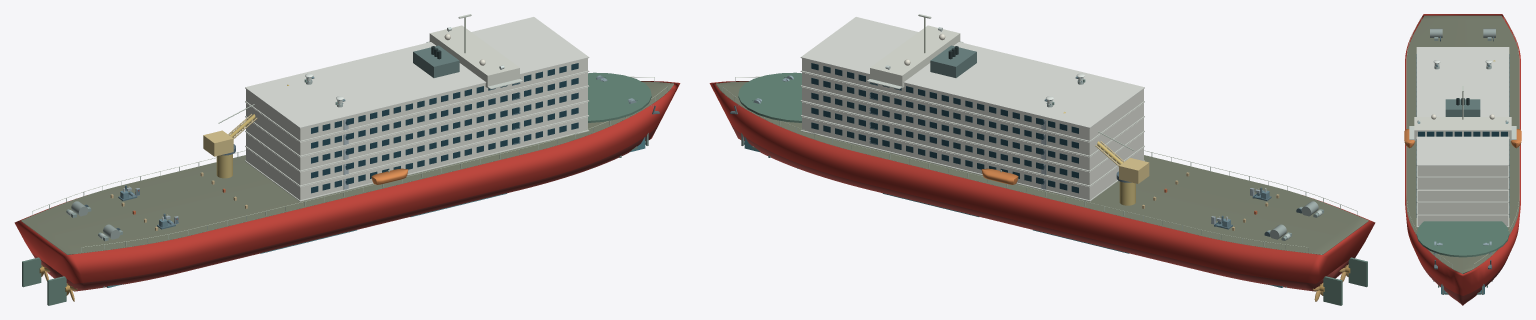
File: sir-david-attenborough.lod1.glb
The picture shows the model from 3 angles, left to right: view 1: azimuth 30°, elevation 25°; view 2: azimuth 150°, elevation 25°; view 3: azimuth 270°, elevation 25°; orthographic projection. The views are drawn at different scales.
Parts seen in each view (by area): view 1: sir-david-attenborough.structure.hull.outer-hull-shell.1, sir-david-attenborough.structure.decks.main-strength-deck.1, sir-david-attenborough.accommodation.superstructure.superstr, sir-david-attenborough.accommodation.superstructure.deck-2-e, sir-david-attenborough.accommodation.superstructure.deck-3-e, sir-david-attenborough.accommodation.superstructure.deck-4-e, sir-david-attenborough.structure.hull.antifouling-underwater, sir-david-attenborough.accommodation.superstructure.deck-1-e, sir-david-attenborough.accommodation.superstructure.deck-5-e, sir-david-attenborough.navigation.bridge.wheelhouse.1, sir-david-attenborough.cargo.aviation.helicopter-landing-dec, sir-david-attenborough.propulsion.exhaust.exhaust-casing.1 (+8 smaller); view 2: sir-david-attenborough.structure.hull.outer-hull-shell.1, sir-david-attenborough.structure.decks.main-strength-deck.1, sir-david-attenborough.accommodation.superstructure.superstr, sir-david-attenborough.accommodation.superstructure.deck-4-e, sir-david-attenborough.accommodation.superstructure.deck-2-e, sir-david-attenborough.accommodation.superstructure.deck-3-e, sir-david-attenborough.structure.hull.antifouling-underwater, sir-david-attenborough.accommodation.superstructure.deck-1-e, sir-david-attenborough.accommodation.superstructure.deck-5-e, sir-david-attenborough.navigation.bridge.wheelhouse.1, sir-david-attenborough.cargo.aviation.helicopter-landing-dec, sir-david-attenborough.propulsion.exhaust.exhaust-casing.1 (+8 smaller); view 3: sir-david-attenborough.accommodation.superstructure.superstr, sir-david-attenborough.structure.decks.main-strength-deck.1, sir-david-attenborough.structure.hull.outer-hull-shell.1, sir-david-attenborough.cargo.aviation.helicopter-landing-dec, sir-david-attenborough.navigation.bridge.wheelhouse.1, sir-david-attenborough.accommodation.superstructure.deck-3-e, sir-david-attenborough.accommodation.superstructure.deck-2-e, sir-david-attenborough.accommodation.superstructure.deck-4-e, sir-david-attenborough.accommodation.superstructure.deck-5-e, sir-david-attenborough.accommodation.superstructure.deck-1-e, sir-david-attenborough.propulsion.exhaust.exhaust-casing.1, sir-david-attenborough.structure.hull.antifouling-underwater (+8 smaller).
Boxes of the visible parts, x1,y1,x2,y2 form: sir-david-attenborough.structure.hull.outer-hull-shell.1: [14, 81, 680, 283]; sir-david-attenborough.structure.decks.main-strength-deck.1: [21, 81, 673, 254]; sir-david-attenborough.accommodation.superstructure.superstr: [245, 17, 589, 128]; sir-david-attenborough.accommodation.superstructure.deck-2-e: [246, 102, 587, 185]; sir-david-attenborough.accommodation.superstructure.deck-3-e: [246, 87, 587, 170]; sir-david-attenborough.accommodation.superstructure.deck-4-e: [246, 72, 587, 155]; sir-david-attenborough.structure.hull.antifouling-underwater: [32, 123, 659, 291]; sir-david-attenborough.accommodation.superstructure.deck-1-e: [246, 117, 587, 200]; sir-david-attenborough.accommodation.superstructure.deck-5-e: [246, 58, 587, 140]; sir-david-attenborough.navigation.bridge.wheelhouse.1: [429, 25, 519, 87]; sir-david-attenborough.cargo.aviation.helicopter-landing-dec: [588, 72, 651, 122]; sir-david-attenborough.propulsion.exhaust.exhaust-casing.1: [413, 45, 459, 77]; sir-david-attenborough.structure.hull.outer-hull-shell.1: [709, 81, 1375, 283]; sir-david-attenborough.structure.decks.main-strength-deck.1: [716, 81, 1368, 254]; sir-david-attenborough.accommodation.superstructure.superstr: [800, 17, 1144, 128]; sir-david-attenborough.accommodation.superstructure.deck-4-e: [802, 72, 1143, 155]; sir-david-attenborough.accommodation.superstructure.deck-2-e: [802, 102, 1143, 185]; sir-david-attenborough.accommodation.superstructure.deck-3-e: [802, 87, 1143, 170]; sir-david-attenborough.structure.hull.antifouling-underwater: [730, 123, 1357, 291]; sir-david-attenborough.accommodation.superstructure.deck-1-e: [802, 117, 1143, 200]; sir-david-attenborough.accommodation.superstructure.deck-5-e: [802, 58, 1143, 140]; sir-david-attenborough.navigation.bridge.wheelhouse.1: [870, 25, 960, 87]; sir-david-attenborough.cargo.aviation.helicopter-landing-dec: [738, 72, 801, 122]; sir-david-attenborough.propulsion.exhaust.exhaust-casing.1: [930, 45, 976, 77]; sir-david-attenborough.accommodation.superstructure.superstr: [1416, 47, 1509, 165]; sir-david-attenborough.structure.decks.main-strength-deck.1: [1406, 15, 1519, 273]; sir-david-attenborough.structure.hull.outer-hull-shell.1: [1405, 14, 1520, 295]; sir-david-attenborough.cargo.aviation.helicopter-landing-dec: [1416, 221, 1509, 257]; sir-david-attenborough.navigation.bridge.wheelhouse.1: [1414, 117, 1511, 140]; sir-david-attenborough.accommodation.superstructure.deck-3-e: [1417, 190, 1508, 201]; sir-david-attenborough.accommodation.superstructure.deck-2-e: [1417, 202, 1508, 213]; sir-david-attenborough.accommodation.superstructure.deck-4-e: [1417, 177, 1508, 188]; sir-david-attenborough.accommodation.superstructure.deck-5-e: [1417, 166, 1508, 176]; sir-david-attenborough.accommodation.superstructure.deck-1-e: [1417, 215, 1508, 226]; sir-david-attenborough.propulsion.exhaust.exhaust-casing.1: [1445, 99, 1480, 116]; sir-david-attenborough.structure.hull.antifouling-underwater: [1418, 258, 1507, 305].
Bounding box in the file's own units: 129 × 33.62 × 24.28.
